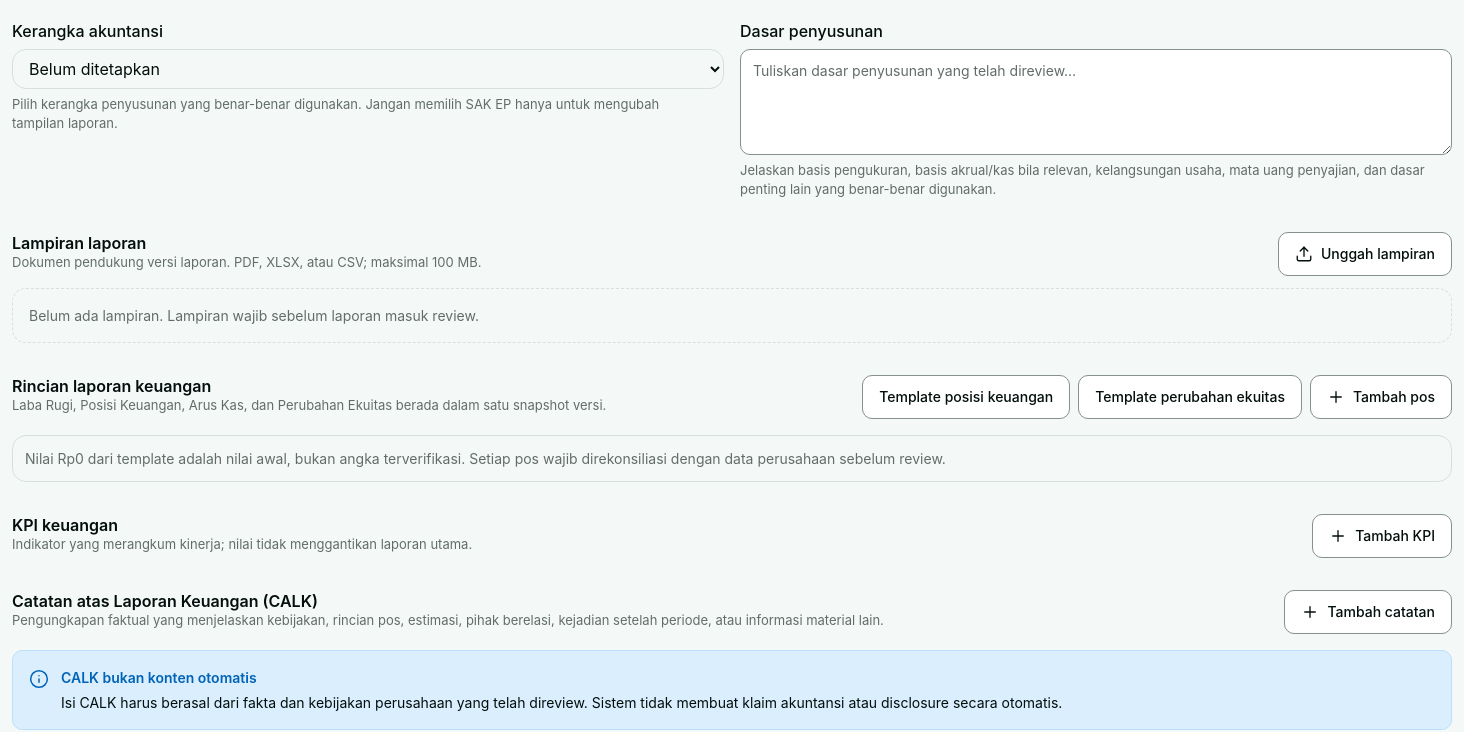
FinancialReportContentEditor balance sheet template › does not duplicate template positions when applied more than once
Click the button "Template posisi keuangan" at (966, 397), box [862,375,1070,419]
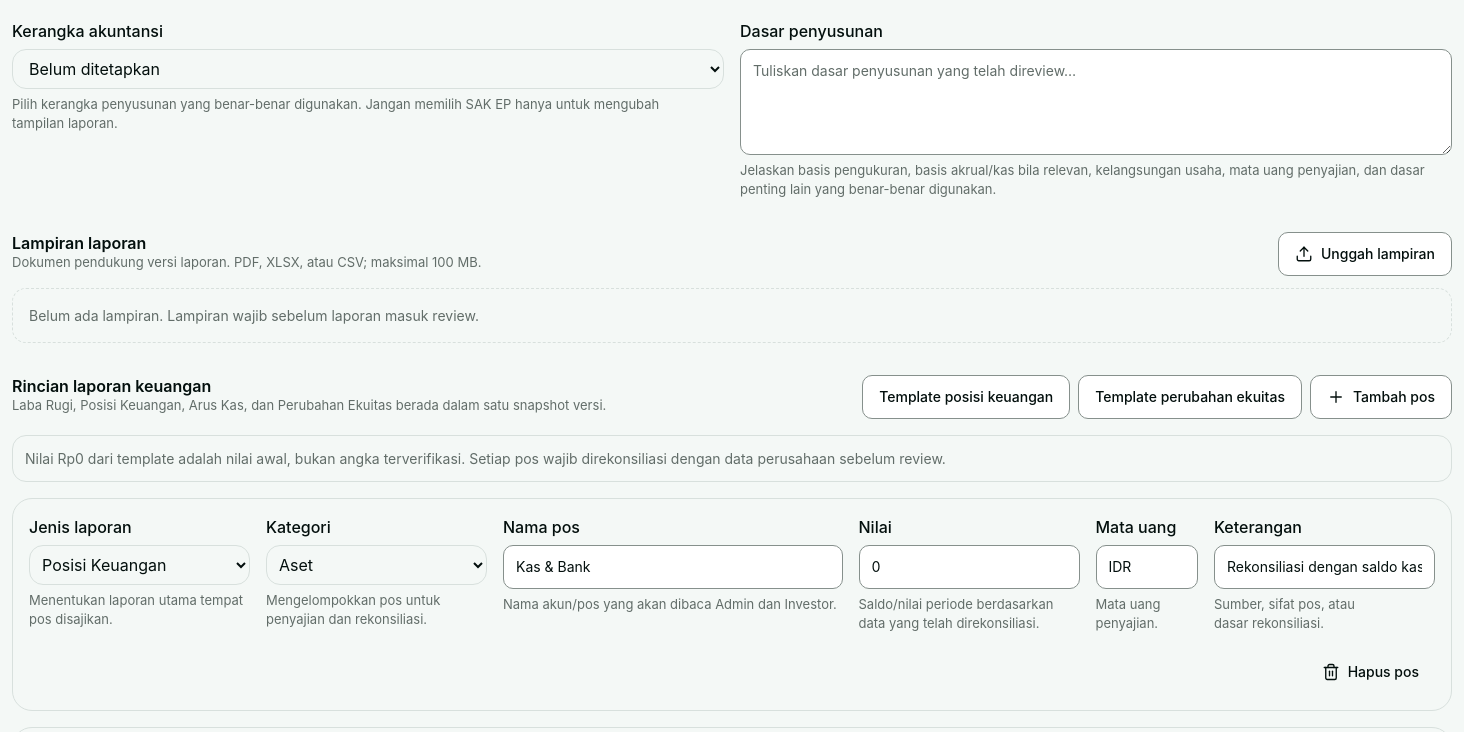
Click the button "Template posisi keuangan" at (966, 397), box [862,375,1070,419]
(page scrolled)
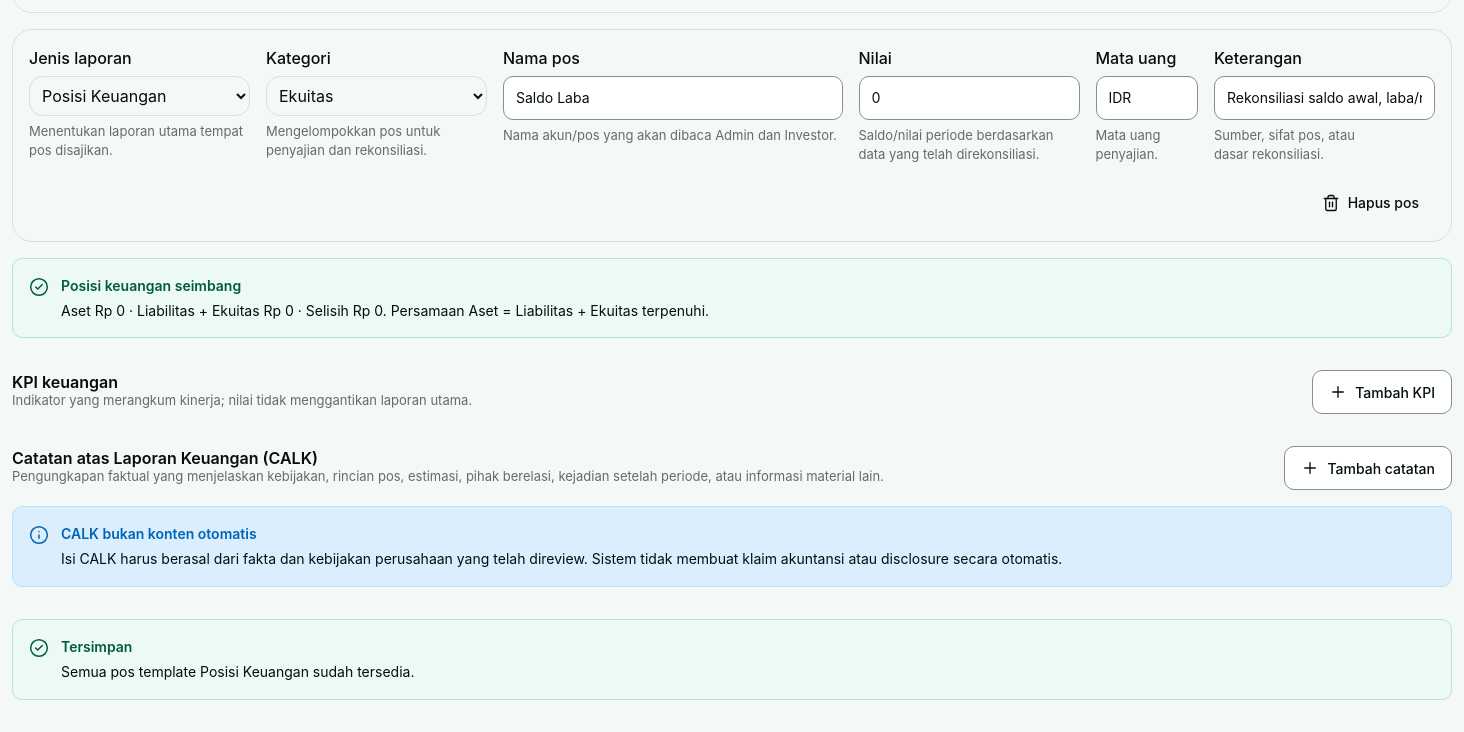
Expected: the text "Posisi keuangan seimbang" is shown, [61,277,241,294]
Expected: the text "Semua pos template Posisi Keuangan sudah tersedia." is shown, [61,661,414,683]
